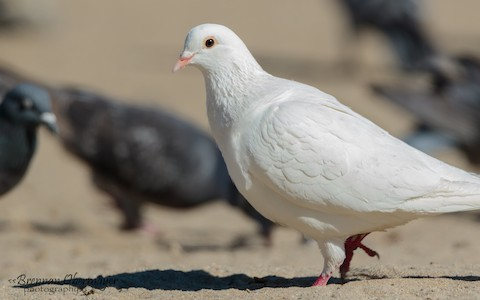pigeon: (170, 19, 474, 292)
